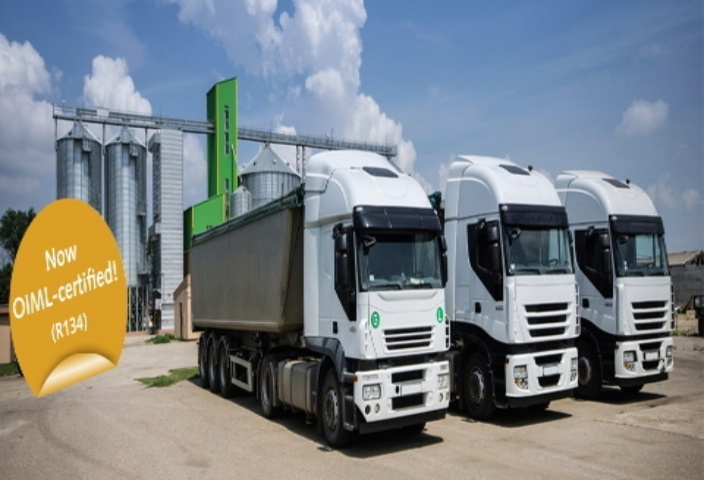truck: (156, 136, 460, 436), (390, 144, 590, 402), (546, 161, 691, 402)
